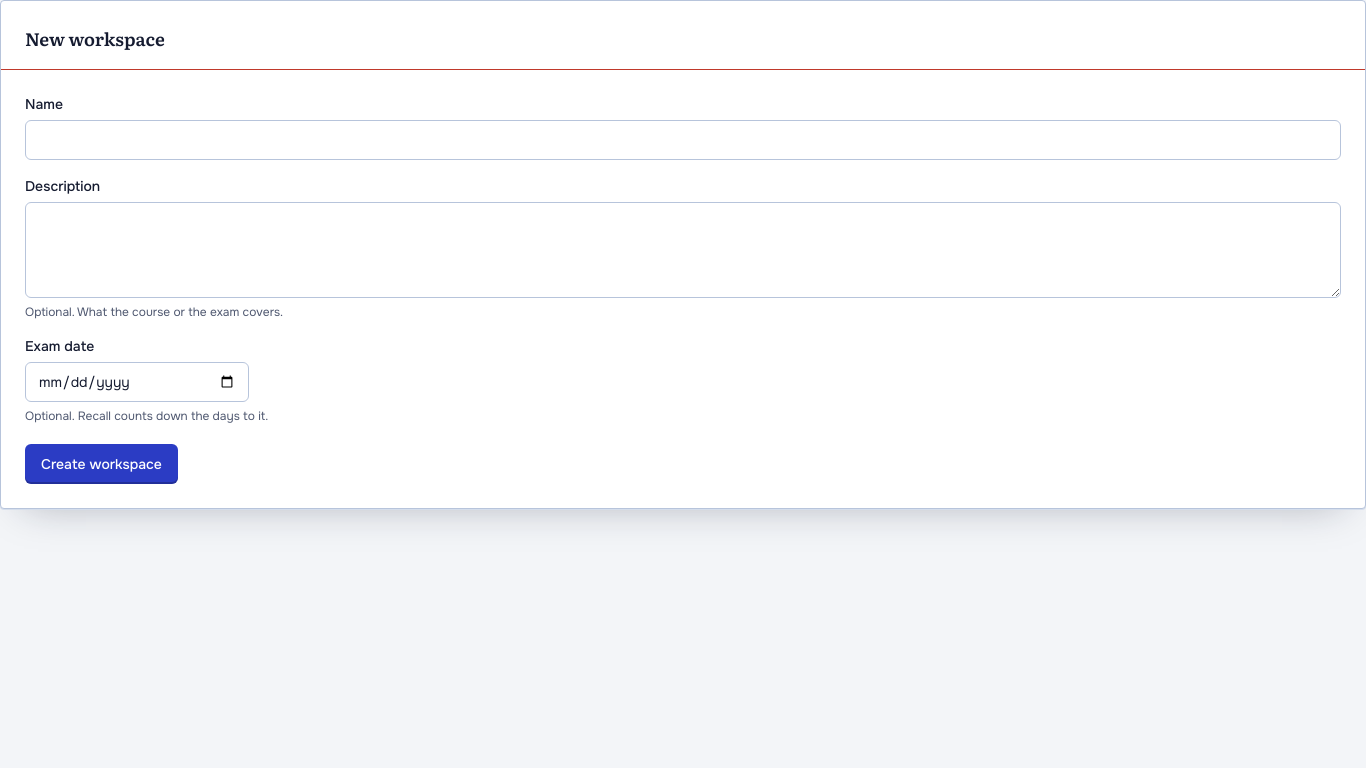
Test: CreateWorkspaceForm › asks to finish a half-typed exam date instead of dropping it
Type "Organic chemistry" into the field labelled "Name" at (683, 140), box [25,120,1341,160]
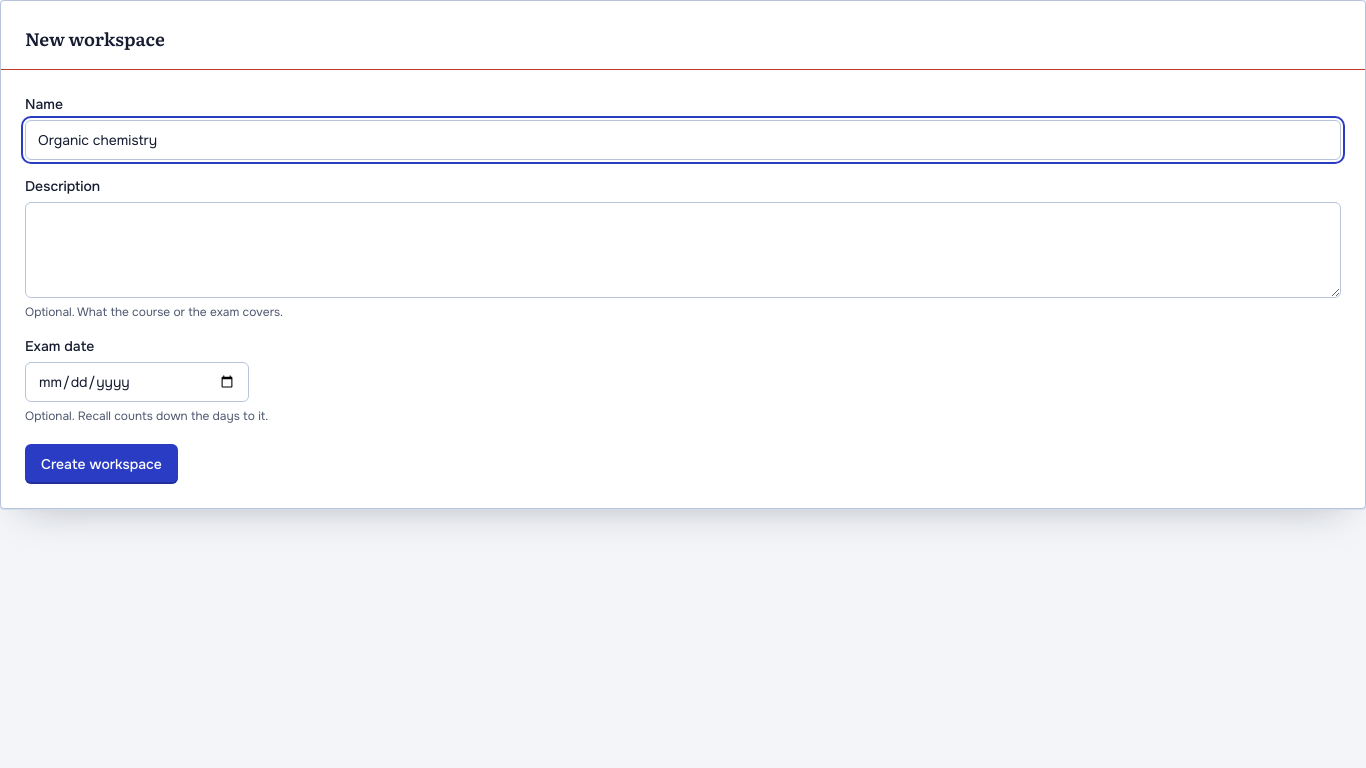
Click the button "Create workspace" at (101, 464), box [25,444,178,484]
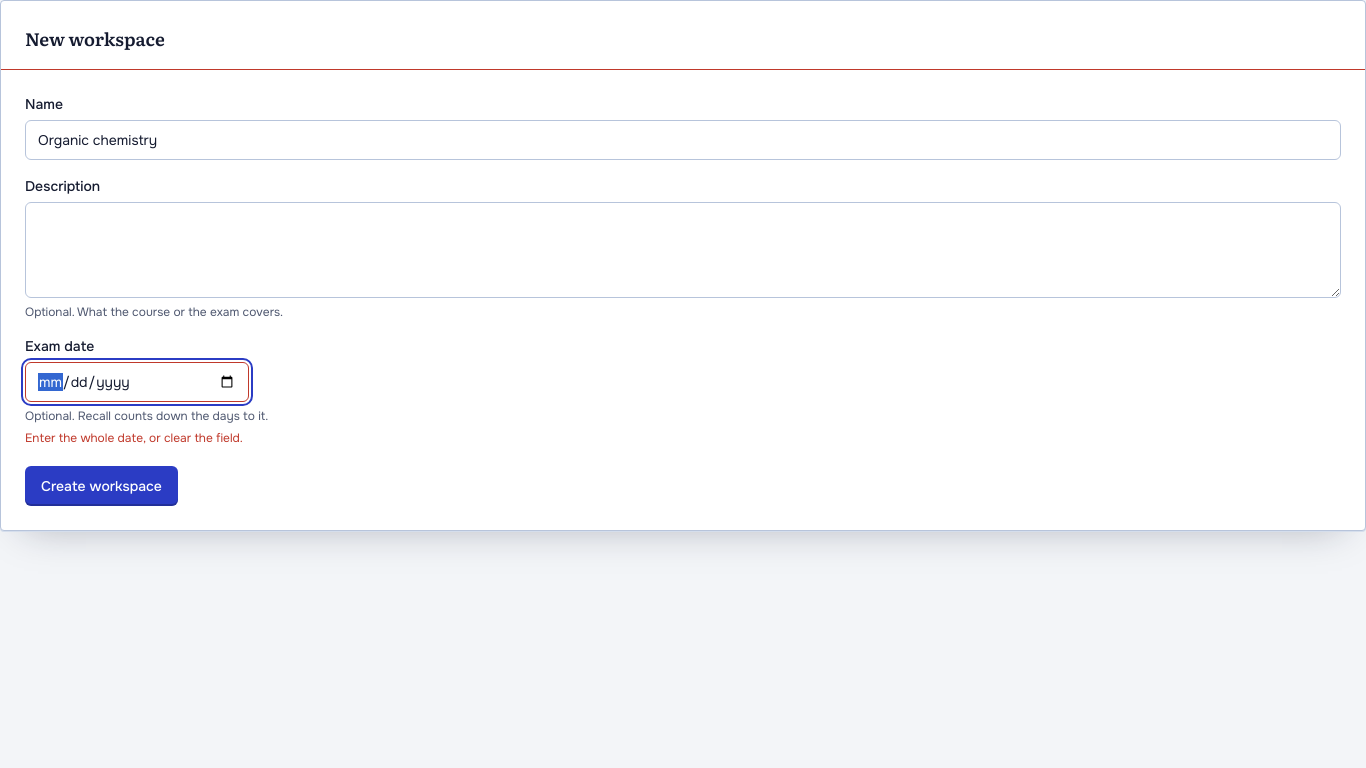
Expected: the text "Enter the whole date, or clear the field." is shown, [25,430,243,446]
